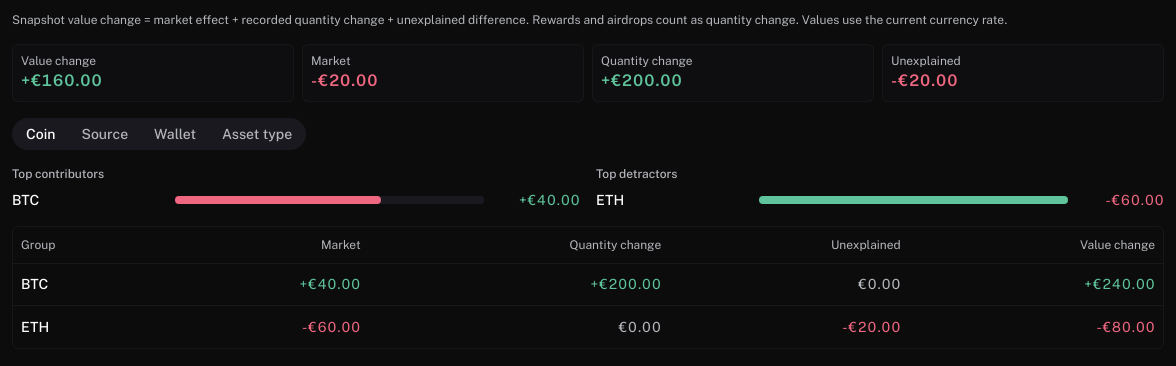
Scenario: profit attribution › shows converted totals, top contributors and detractors, and grouped rows
Check: the heading "Top contributors" is shown, box 12,167 -> 104,181
Check: the heading "Top detractors" is shown, box 596,167 -> 677,181
Click the radio button labelled "Source": {"x": 105, "y": 134} 70,120 -> 140,148
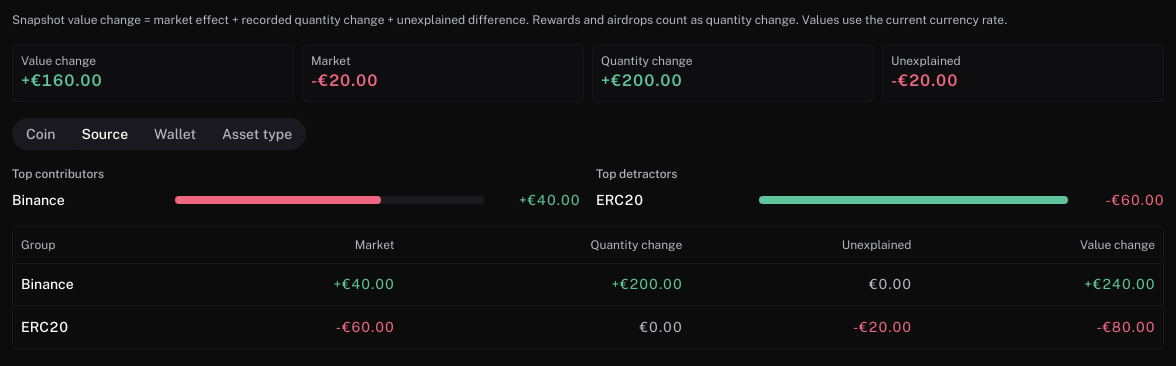
Check: the text "Binance" is shown, box 12,192 -> 65,208
Check: the text "ERC20" is shown, box 596,192 -> 644,208
Click the radio button labelled "Wallet": {"x": 175, "y": 134} 142,120 -> 208,148
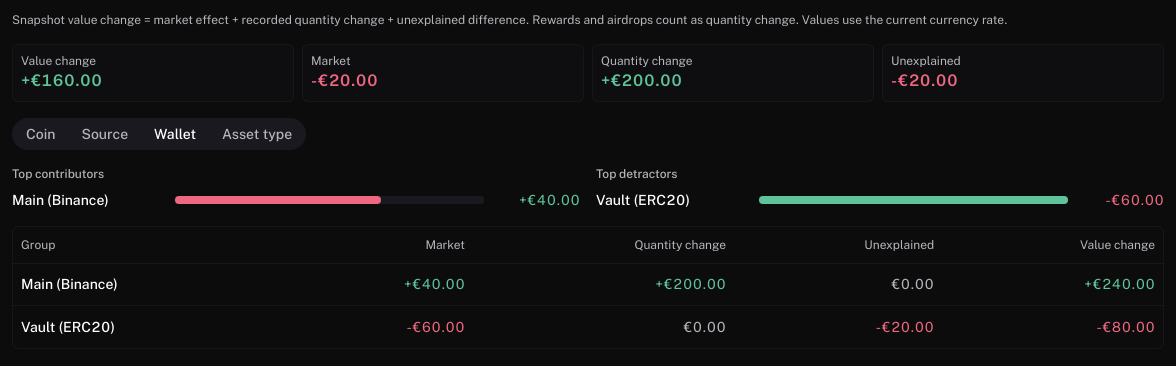
Check: the text "Main (Binance)" is shown, box 12,192 -> 109,208
